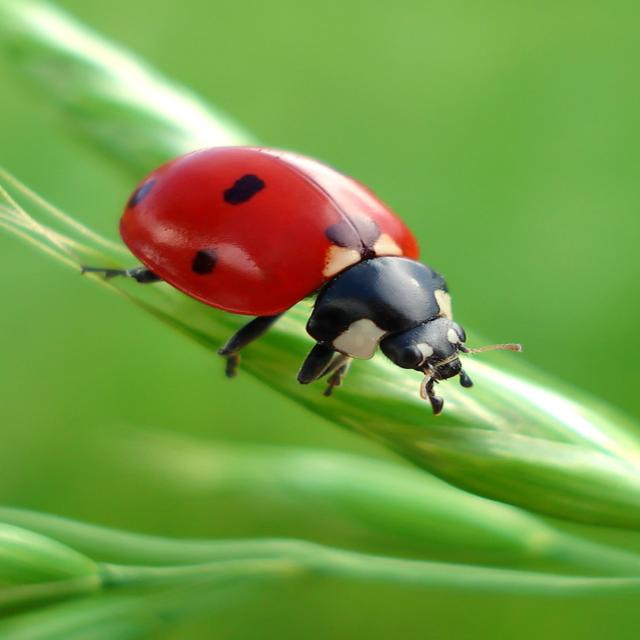ladybug: (84, 147, 471, 414)
